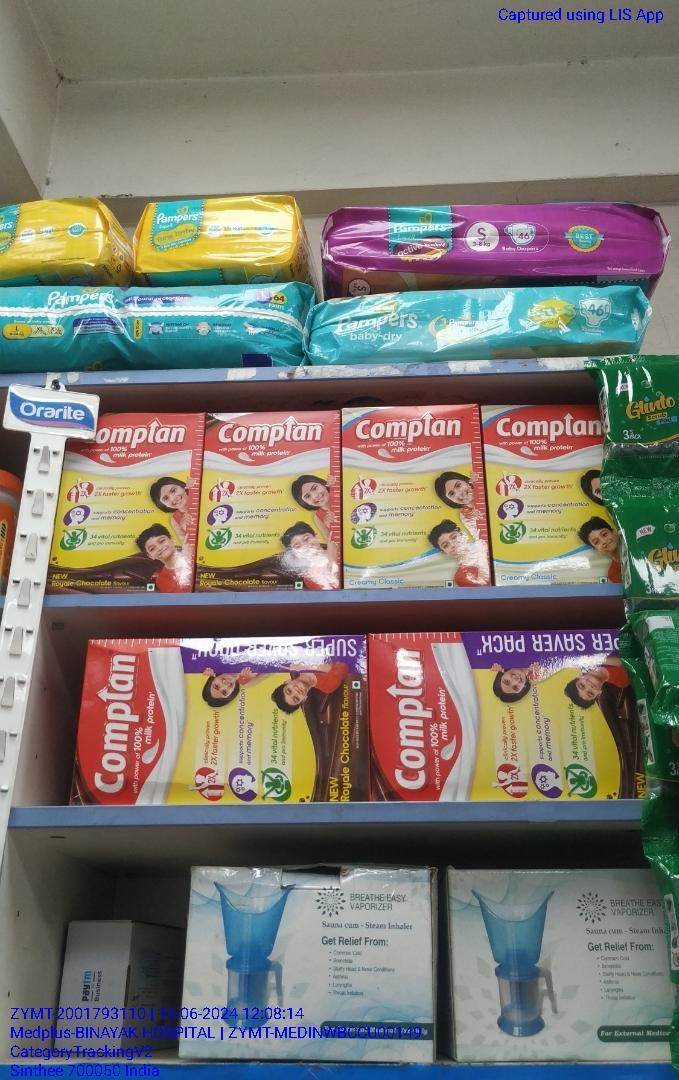COMPLAN_CHOCOLATE_500_GMS_PACK: (53, 412, 198, 596), (204, 412, 338, 588)
COMPLAN_CREAMY_CLASSIC_500_G_PACK: (344, 402, 477, 591), (489, 401, 603, 584)
